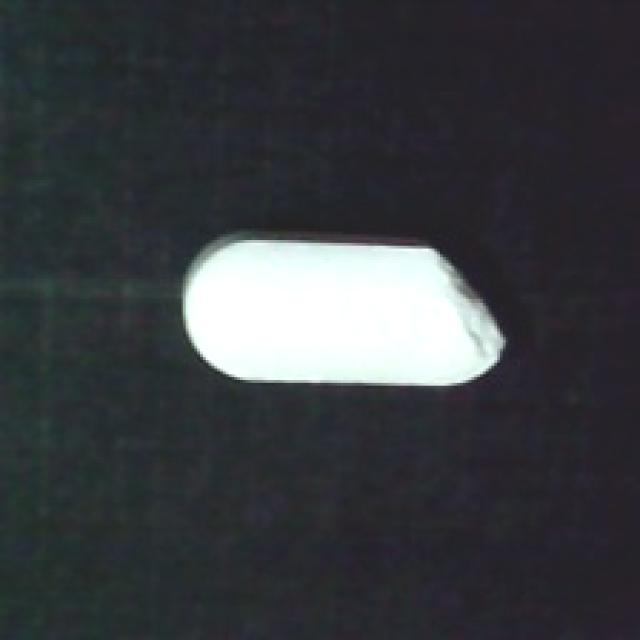defected: (174, 226, 517, 400)
